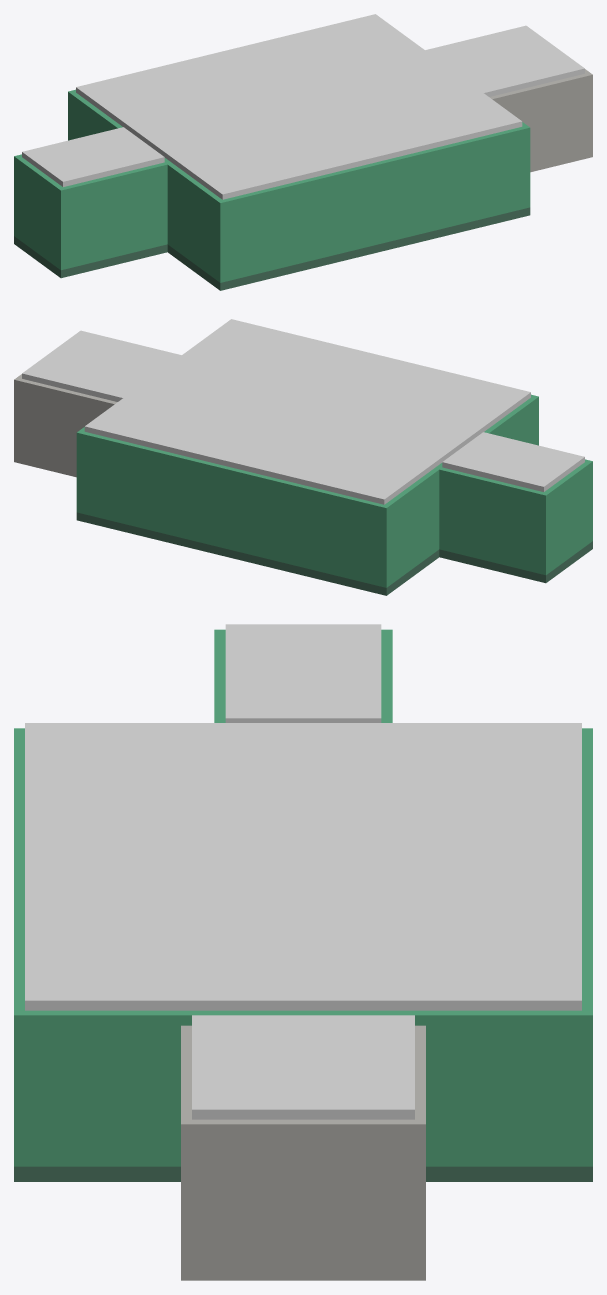
Rendered from control_room.glb.
3 renders of one model, top to bottom at view 1: azimuth 30°, elevation 25°; view 2: azimuth 150°, elevation 25°; view 3: azimuth 270°, elevation 25°, orthographic. The views are drawn at different scales.
Parts seen in each view (by area): view 1: Ceiling_001, Wall_015, Wall_011, Ceiling_002, Wall_014, Ceiling_003, Wall_012, Wall_007, Floor_004, Wall_002, Floor_003, Floor_002; view 2: Ceiling_001, Wall_001, Wall_006, Ceiling_002, Wall_004, Ceiling_003, Wall_002, Wall_007, Floor_001, Wall_012, Floor_003, Floor_002; view 3: Ceiling_001, Wall_005, Wall_003, Wall_013, Ceiling_002, Ceiling_003, Wall_001, Wall_015, Floor_002, Floor_001, Floor_004, Wall_004 (+3 smaller).
Boxes of the visible parts, x1,y1,x2,y2 form: Ceiling_001: [76, 14, 522, 199]; Wall_015: [217, 125, 530, 282]; Wall_011: [58, 161, 171, 270]; Ceiling_002: [425, 25, 584, 96]; Wall_014: [489, 72, 592, 164]; Ceiling_003: [22, 127, 164, 186]; Wall_012: [167, 163, 222, 280]; Wall_007: [17, 157, 62, 267]; Floor_004: [167, 207, 530, 290]; Wall_002: [70, 92, 122, 139]; Floor_003: [14, 236, 167, 278]; Floor_002: [530, 149, 592, 172]; Ceiling_001: [84, 319, 530, 504]; Wall_001: [76, 430, 389, 587]; Wall_006: [435, 466, 548, 575]; Ceiling_002: [22, 330, 181, 401]; Wall_004: [14, 377, 117, 469]; Ceiling_003: [442, 432, 584, 491]; Wall_002: [384, 468, 439, 585]; Wall_007: [544, 462, 589, 572]; Floor_001: [76, 512, 439, 595]; Wall_012: [484, 397, 536, 444]; Floor_003: [439, 541, 592, 583]; Floor_002: [14, 454, 76, 477]; Ceiling_001: [25, 723, 581, 1010]; Wall_005: [192, 1119, 414, 1265]; Wall_003: [337, 1010, 581, 1166]; Wall_013: [25, 1010, 203, 1166]; Ceiling_002: [192, 1015, 414, 1119]; Ceiling_003: [225, 624, 381, 722]; Wall_001: [582, 728, 592, 1166]; Wall_015: [14, 728, 24, 1166]; Floor_002: [181, 1265, 425, 1280]; Floor_001: [426, 1166, 592, 1181]; Floor_004: [14, 1166, 180, 1181]; Wall_004: [415, 1025, 425, 1265].
Size of the model in its own units: 20.6 by 3.5 by 10.4.
